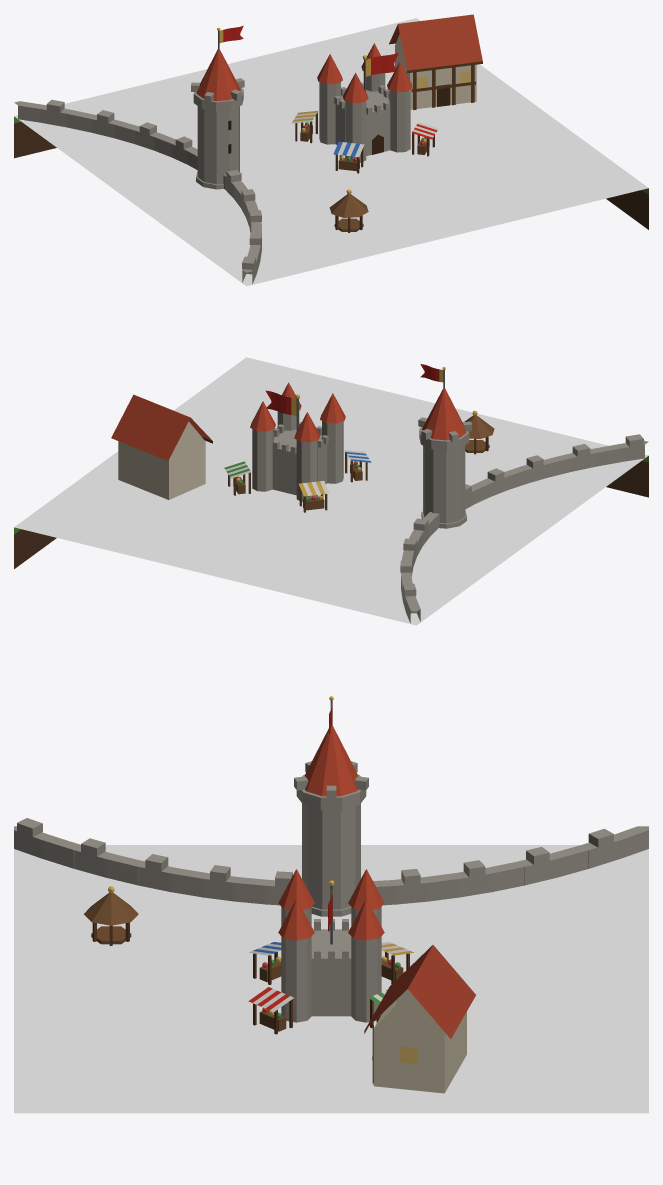
The picture shows the model from 3 angles, top to bottom: view 1: azimuth 30°, elevation 25°; view 2: azimuth 150°, elevation 25°; view 3: azimuth 270°, elevation 25°; orthographic projection. The views are drawn at different scales.
Parts seen in each view (by area): view 1: c3r; view 2: c3r; view 3: c3r.
Part boxes in pixels (x1,y1,x2,y2): c3r: [14, 14, 648, 286]; c3r: [14, 357, 648, 625]; c3r: [14, 696, 648, 1113].
Size of the model in its own units: 2 by 0.9222 by 2.
